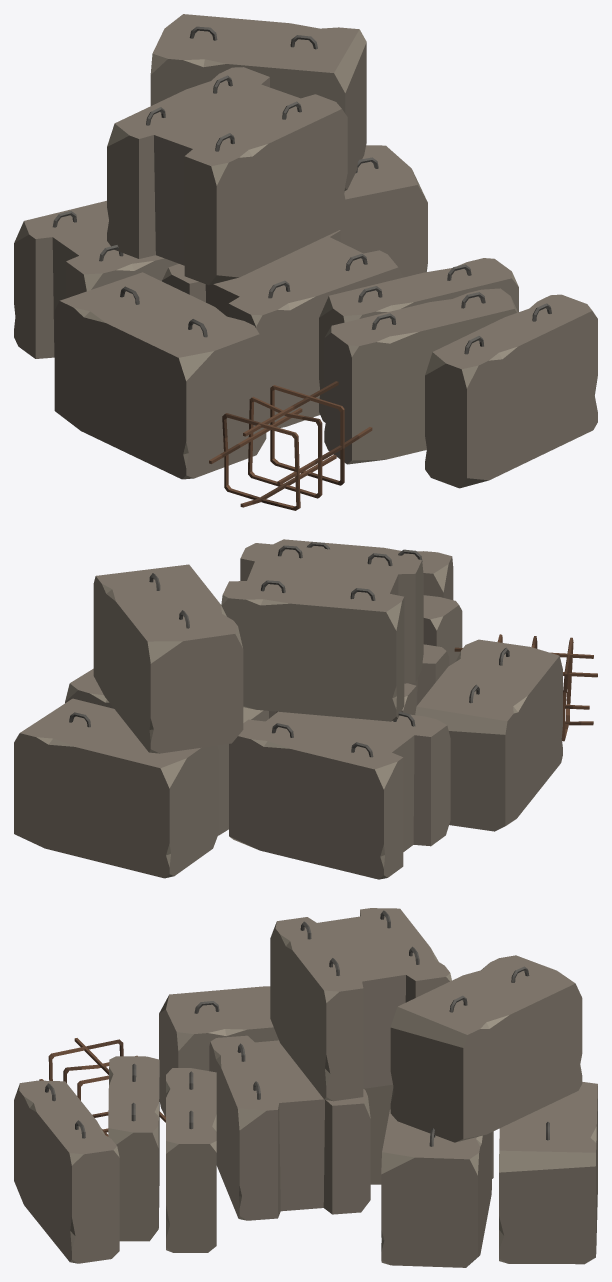
File: SM_Prop_Concrete_Slab_Pile_03.fbx
3 views of the same model, one above another, from view 1: azimuth 30°, elevation 25°; view 2: azimuth 150°, elevation 25°; view 3: azimuth 270°, elevation 25° (orthographic). The views are drawn at different scales.
Visible parts, largest first — view 1: SM_Prop_Concrete_Slab_Pile_03; view 2: SM_Prop_Concrete_Slab_Pile_03; view 3: SM_Prop_Concrete_Slab_Pile_03.
Part boxes in pixels (left/top/right/bottom): SM_Prop_Concrete_Slab_Pile_03: left=14, top=14, right=597, bottom=510; SM_Prop_Concrete_Slab_Pile_03: left=14, top=539, right=597, bottom=879; SM_Prop_Concrete_Slab_Pile_03: left=14, top=908, right=597, bottom=1267.
Bounding box in the file's own units: 353 × 215 × 486.
